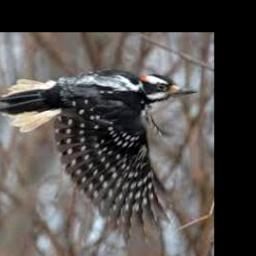Woodpecker: (0, 68, 197, 239)
